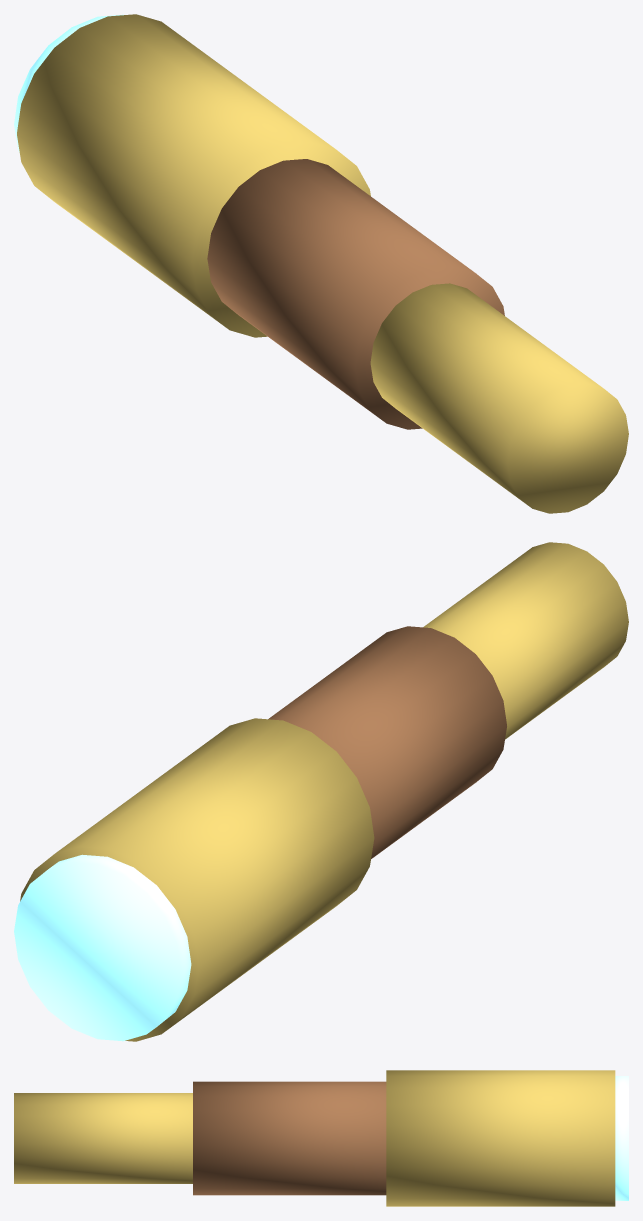
File: tool-spyglass.glb
The picture shows the model from 3 angles, top to bottom: view 1: azimuth 30°, elevation 25°; view 2: azimuth 150°, elevation 25°; view 3: azimuth 270°, elevation 25°; orthographic projection. The views are drawn at different scales.
Visible parts, largest first — view 1: Cylinder.002, Cylinder.001, Cylinder, Cylinder.003; view 2: Cylinder.002, Cylinder.001, Cylinder.003, Cylinder; view 3: Cylinder.002, Cylinder.001, Cylinder, Cylinder.003.
Boxes of the visible parts, x1=… form: Cylinder.002: x1=17, y1=14, x2=370, y2=337; Cylinder.001: x1=207, y1=159, x2=504, y2=429; Cylinder: x1=370, y1=283, x2=628, y2=513; Cylinder.003: x1=14, y1=14, x2=123, y2=152; Cylinder.002: x1=20, y1=718, x2=374, y2=1041; Cylinder.001: x1=268, y1=626, x2=506, y2=858; Cylinder.003: x1=14, y1=854, x2=191, y2=1041; Cylinder: x1=423, y1=542, x2=628, y2=739; Cylinder.002: x1=386, y1=1070, x2=615, y2=1206; Cylinder.001: x1=193, y1=1081, x2=386, y2=1195; Cylinder: x1=14, y1=1093, x2=192, y2=1183; Cylinder.003: x1=615, y1=1076, x2=628, y2=1200.
Bounding box in the file's own units: 0.096 × 0.096 × 0.4295.
